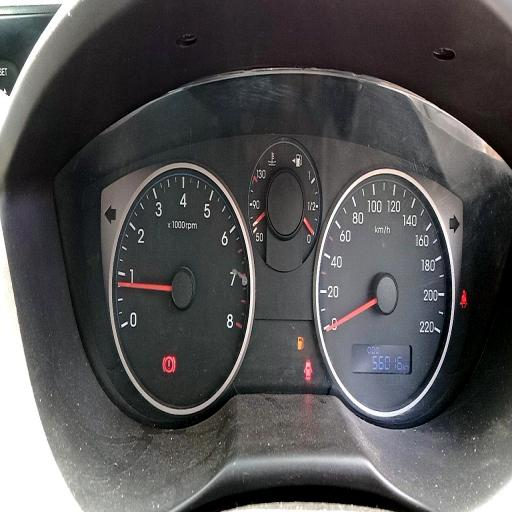belt: (460, 289, 468, 309)
brake_system_fault: (162, 354, 176, 374)
tachometer: (108, 159, 256, 415)
